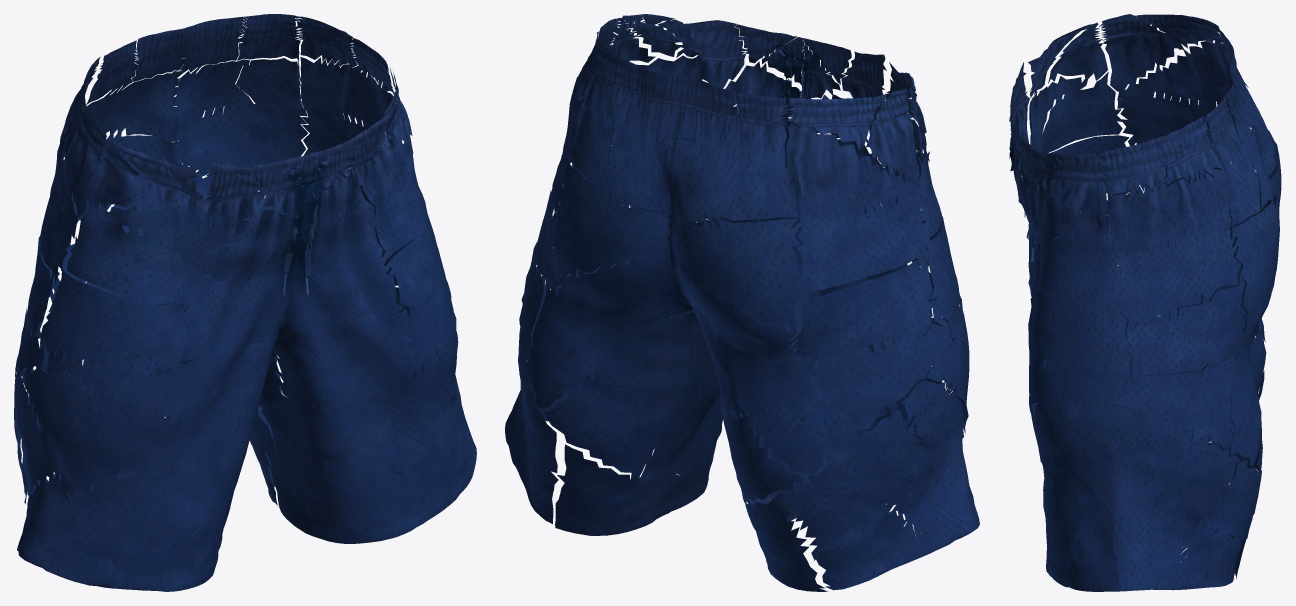
Rendered from dante.glb.
The picture shows the model from 3 angles, left to right: view 1: azimuth 30°, elevation 25°; view 2: azimuth 150°, elevation 25°; view 3: azimuth 270°, elevation 25°; orthographic projection. The views are drawn at different scales.
Parts seen in each view (by area): view 1: geometry_0; view 2: geometry_0; view 3: geometry_0.
Part boxes in pixels (bbox=[...]): geometry_0: bbox=[14, 14, 476, 591]; geometry_0: bbox=[505, 14, 979, 591]; geometry_0: bbox=[1009, 14, 1281, 591].
Size of the model in its own units: 0.4981 by 0.4971 by 0.2699.
1 material, 1 textured.
